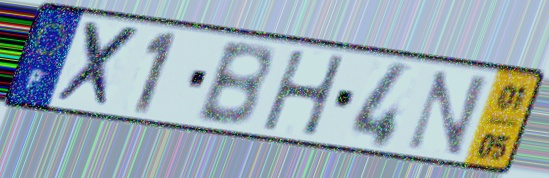1: (132, 29, 182, 118)
4: (348, 58, 409, 152)
B: (191, 41, 274, 130)
H: (259, 49, 349, 139)
N: (401, 67, 493, 159)
X: (51, 18, 146, 113)
